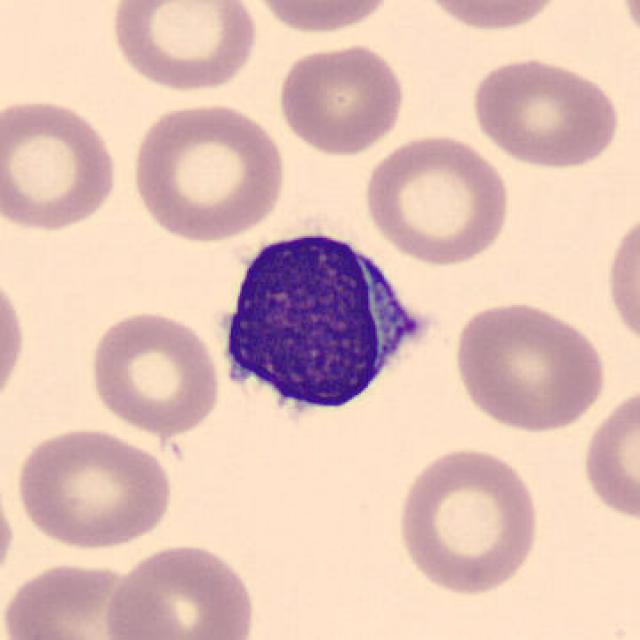Lymphocyte: (207, 213, 438, 439)
RBC: (126, 99, 290, 243), (393, 442, 544, 598), (448, 296, 610, 434), (359, 130, 514, 268), (11, 423, 176, 552), (85, 307, 224, 439), (468, 53, 622, 171), (0, 93, 123, 234), (101, 539, 259, 640), (274, 39, 409, 157), (107, 0, 261, 95), (0, 559, 169, 640), (580, 381, 638, 525), (244, 0, 402, 37), (602, 204, 640, 354), (414, 0, 567, 35), (0, 265, 30, 416)
